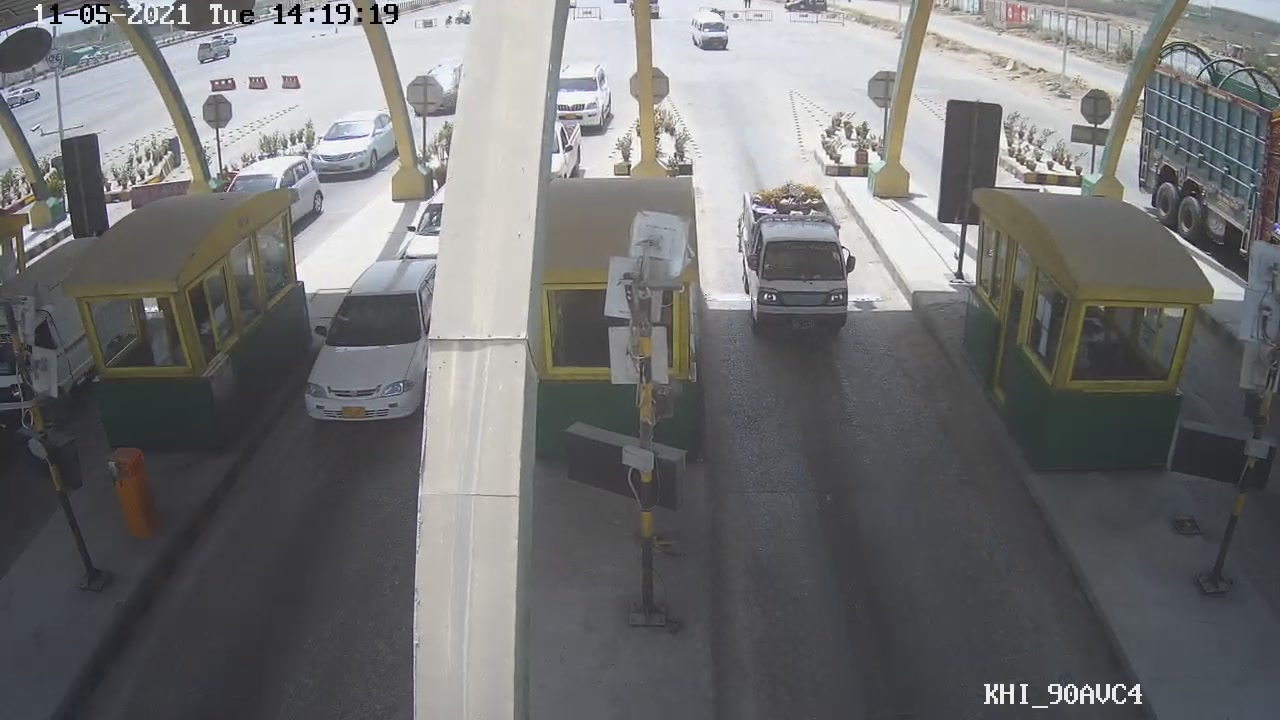F1: (733, 174, 870, 354)
